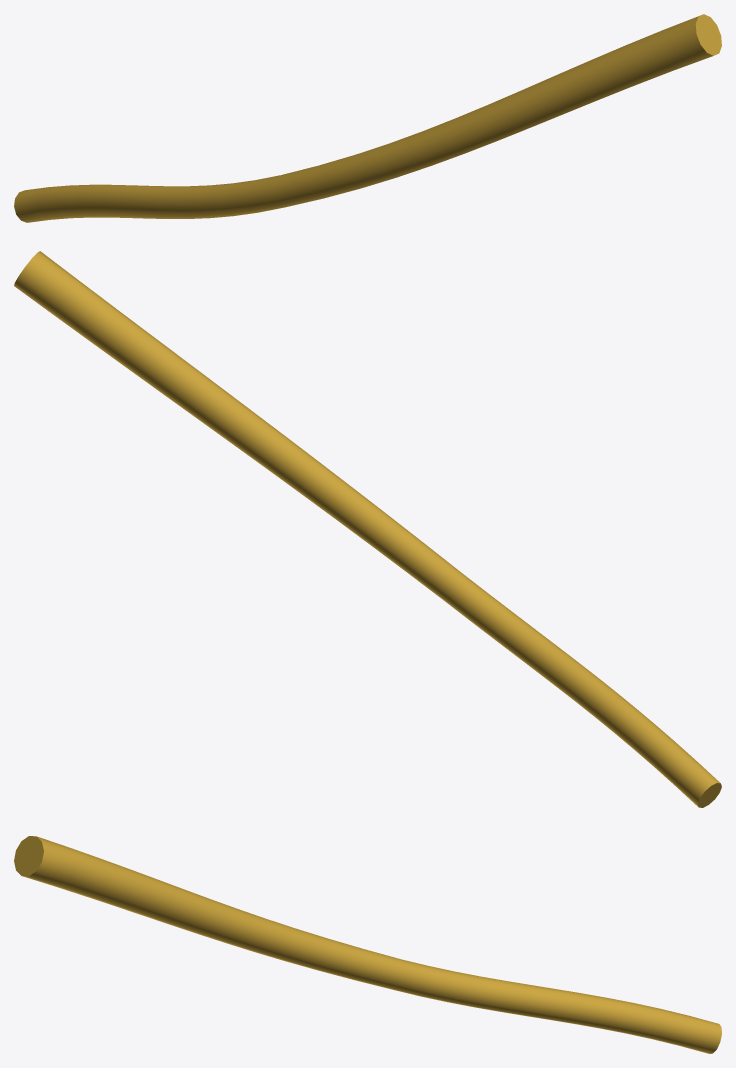
3 renders of one model, top to bottom at view 1: azimuth 30°, elevation 25°; view 2: azimuth 210°, elevation 25°; view 3: azimuth 270°, elevation 25°, orthographic. The views are drawn at different scales.
Parts seen in each view (by area): view 1: 右侧下颌神经前干; view 2: 右侧下颌神经前干; view 3: 右侧下颌神经前干.
Boxes of the visible parts, left/top/right/bottom form: 右侧下颌神经前干: left=14, top=14, right=721, bottom=222; 右侧下颌神经前干: left=14, top=251, right=721, bottom=807; 右侧下颌神经前干: left=14, top=836, right=721, bottom=1053.
Bounding box in the file's own units: 0.0112 × 0.0113 × 0.0196.
